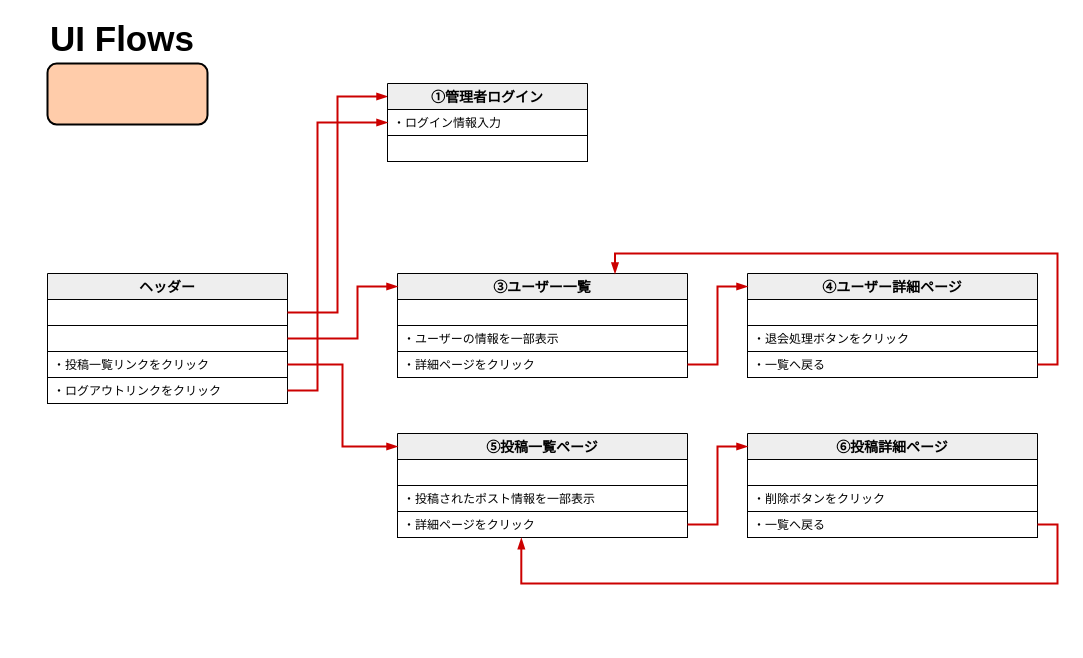
Image size: 1083x658. Some labels were removed from this diagram. Each missing label, with the centre of its shape:
"・ユーザー一覧リンクをクリック" goes at point (167, 338).
"・ログインボタンをクリック" goes at point (487, 148).
"・ロゴをクリック(管理者ログインページ)" goes at point (167, 312).
"・投稿されたポスト一覧を表示" goes at point (542, 472).
"・投稿内容の詳細を表示" goes at point (892, 472).
"・登録されているユーザー一覧を表示" goes at point (542, 312).
"・登録されているユーザー情報を表示" goes at point (892, 312).
"管理者側" goes at point (127, 93).
